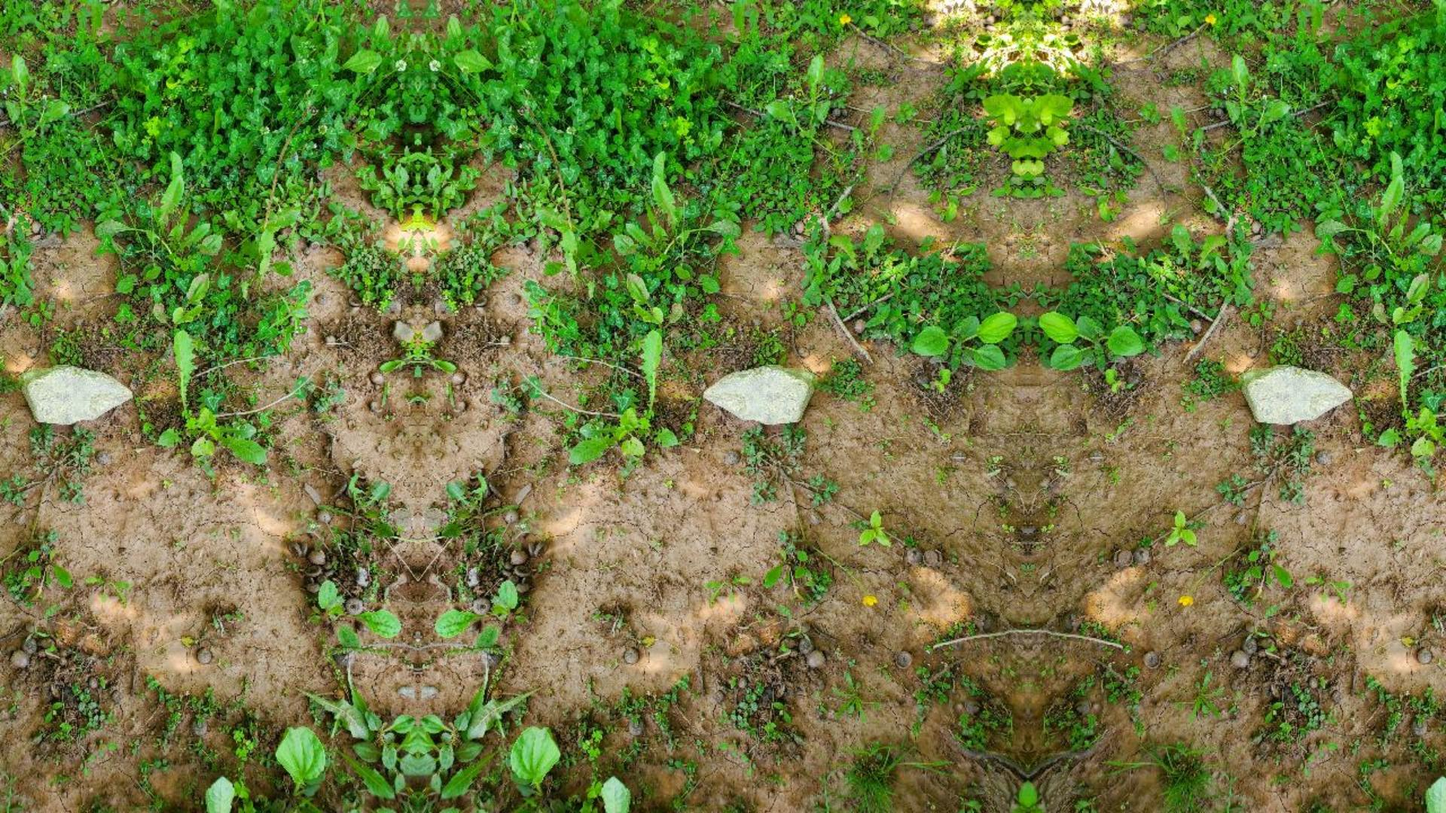rock: (23, 366, 131, 423), (1243, 366, 1351, 423), (704, 366, 811, 423)
